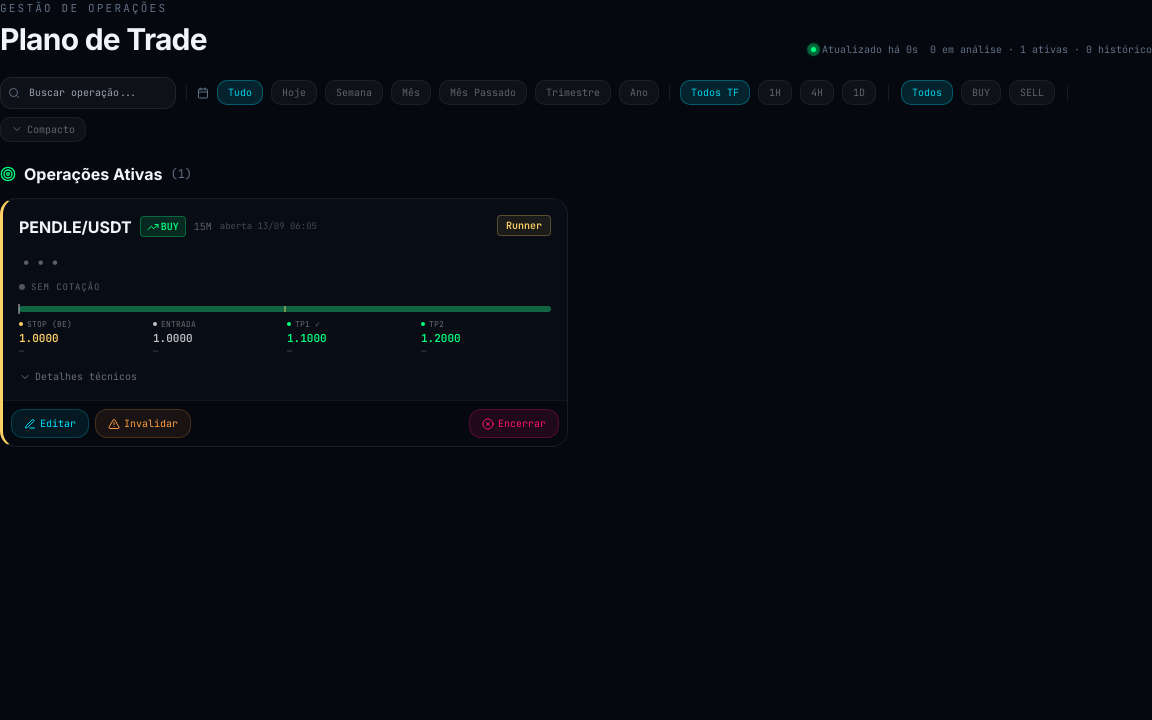
Test: Trades — modal de edição (EditModal) usa Dialog acessível (achado A-12) › avisa que altera o registro e que encerrar por aqui tira das estatísticas
Click the button "Editar" at (50, 424), box [11,409,89,438]
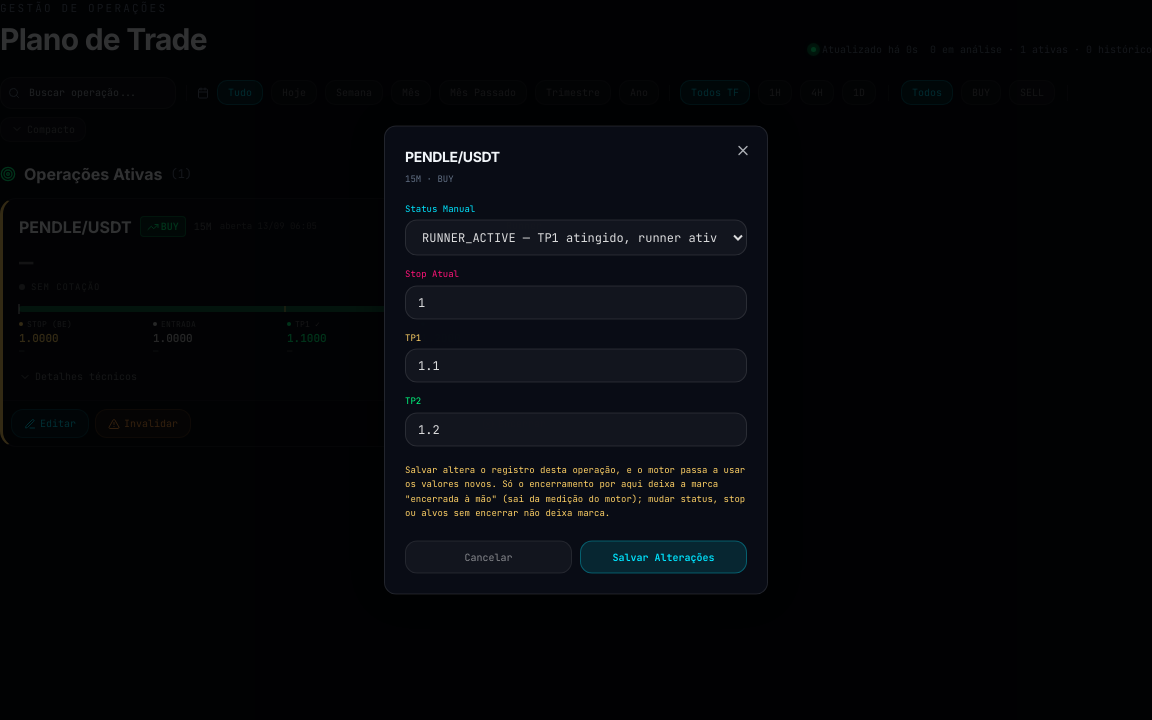
Expected: the dialog shows "altera o registro desta operação", [405,463,745,519]
Expected: the dialog shows "sai da medição do motor", [405,463,745,519]
Expected: the dialog shows "sem encerrar não deixa marca", [405,463,745,519]
